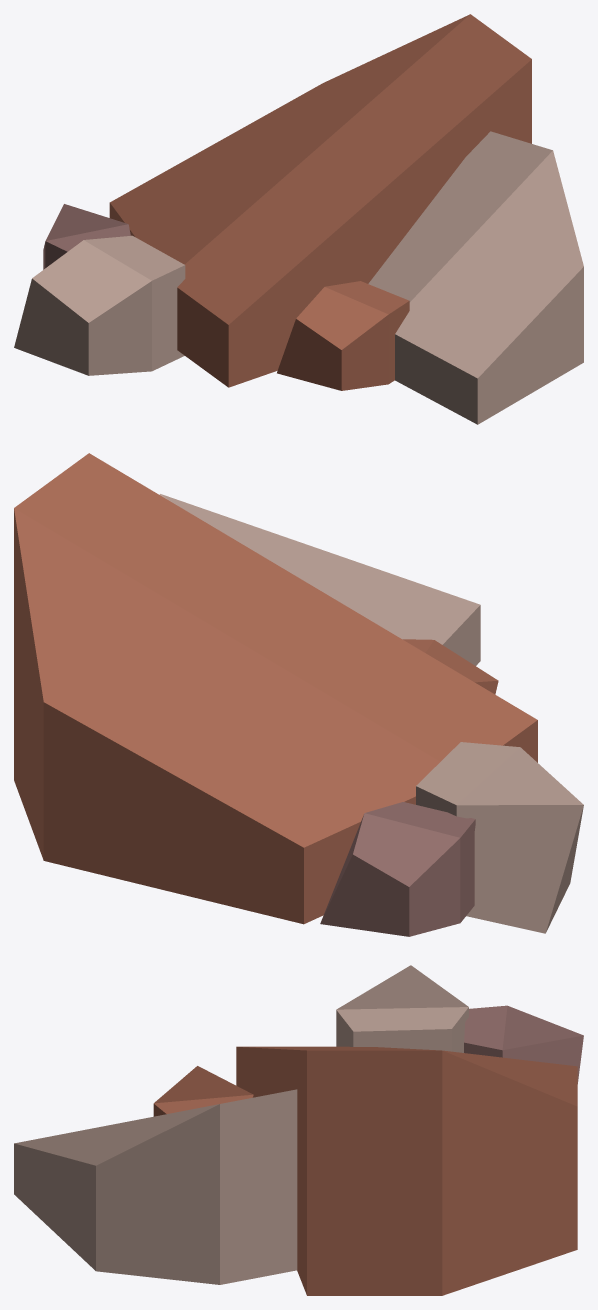
Rendered from Rock_Type5_01.glb.
3 views of the same model, one above another, from view 1: azimuth 30°, elevation 25°; view 2: azimuth 150°, elevation 25°; view 3: azimuth 270°, elevation 25° (orthographic). The views are drawn at different scales.
Visible parts, largest first — view 1: Rock Type5 01 mesh; view 2: Rock Type5 01 mesh; view 3: Rock Type5 01 mesh.
Boxes of the visible parts, bbox=[...] form: Rock Type5 01 mesh: bbox=[14, 14, 583, 424]; Rock Type5 01 mesh: bbox=[14, 453, 583, 936]; Rock Type5 01 mesh: bbox=[14, 965, 583, 1295].
Size of the model in its own units: 1.94 by 0.9523 by 1.92.
1 material, 1 textured.
